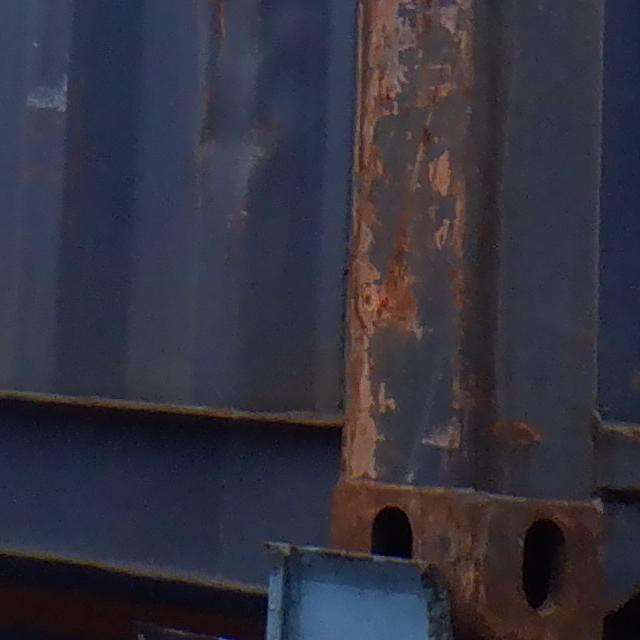dent: (193, 1, 335, 190)
